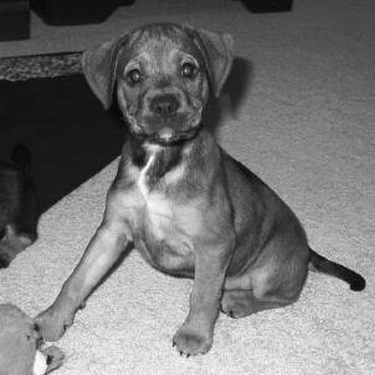dog: (23, 13, 367, 358)
